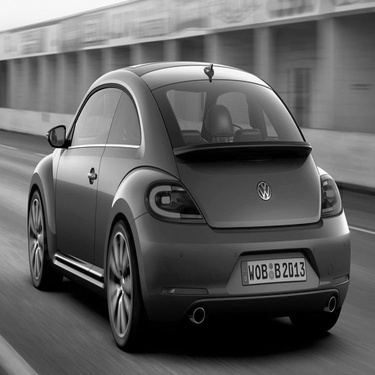car: (21, 48, 338, 340)
